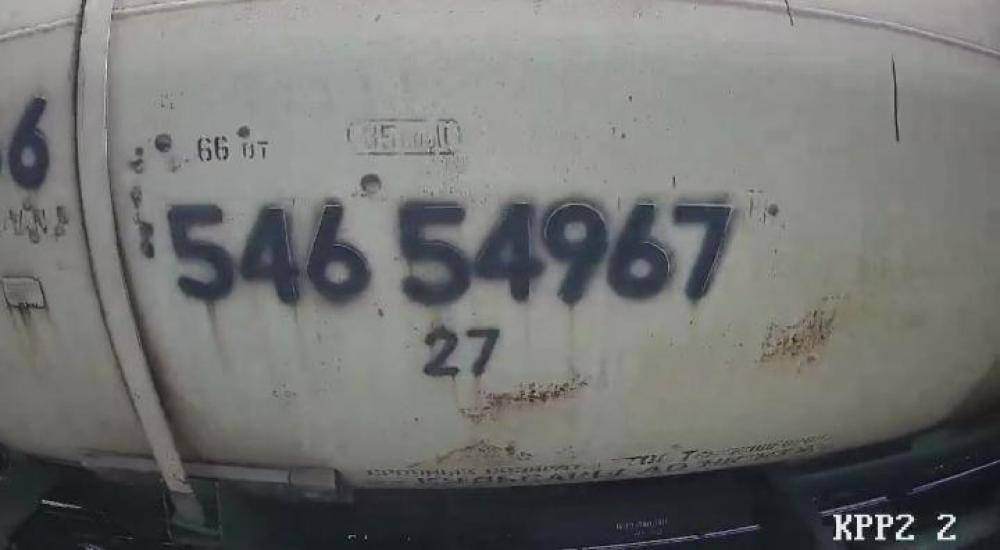Wagon-number: (163, 198, 738, 311)
